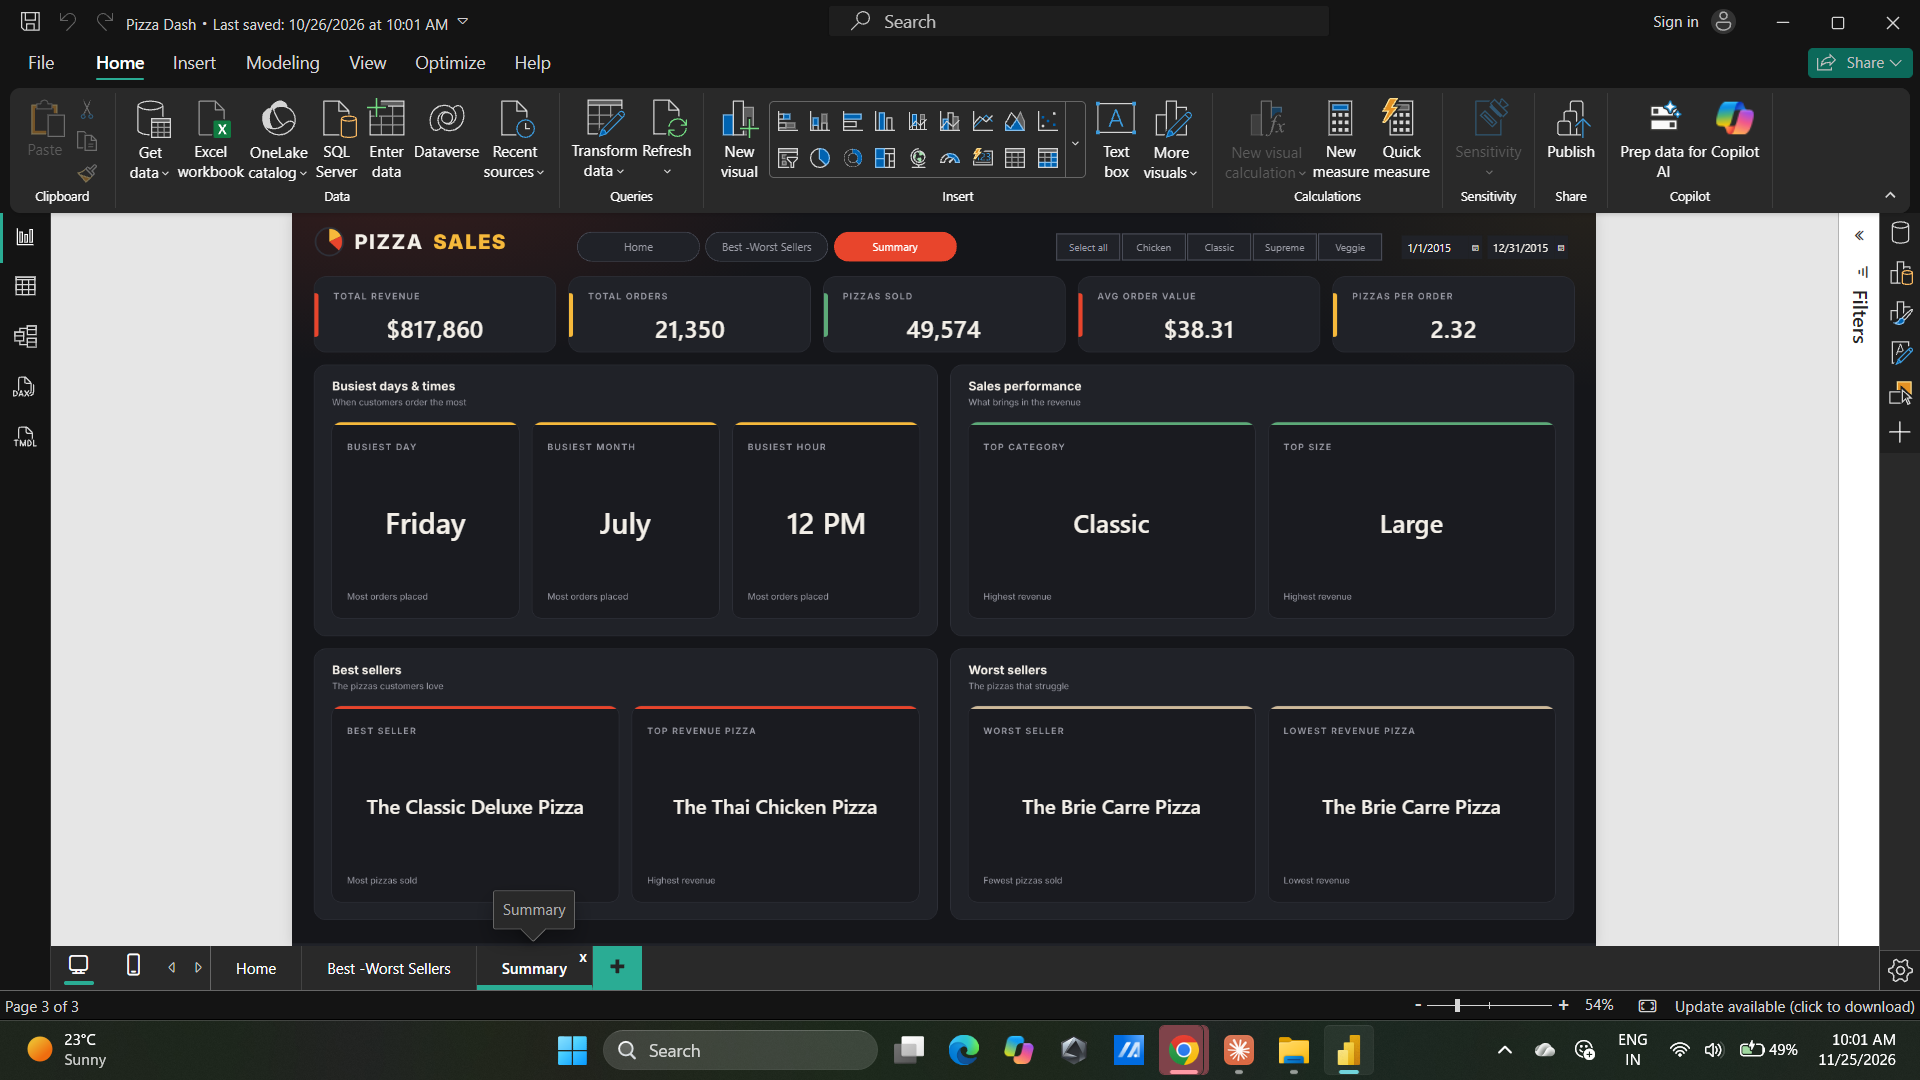

The dashboard page shown, as its layout file describes it:
{"tool":"powerbi","page":{"name":"Summary","canvas":[1920,1080],"ordinal":2},"visuals":[{"type":"card","fields":{"Values":["Measure Table.Total Revenue"]},"box":[46,136,329,68],"z":0},{"type":"card","fields":{"Values":["Measure Table.Total Orders"]},"box":[421,136,329,68],"z":1},{"type":"card","fields":{"Values":["Measure Table.Total Pizzas Sold"]},"box":[796,136,329,68],"z":2},{"type":"card","fields":{"Values":["Measure Table.Avg Order Value"]},"box":[1171,136,329,68],"z":3},{"type":"card","fields":{"Values":["Measure Table.Avg Pizzas per Order"]},"box":[1546,136,329,68],"z":4},{"type":"slicer","fields":{"Values":["Dim_Date.order_date"]},"box":[1625.2,27.6,276.1,44.2],"z":5},{"type":"slicer","fields":{"Values":["Dim_Pizza.pizza_category"]},"box":[1104.3,27.6,520,44],"z":6},{"type":"card","fields":{"Values":["Measure Table.Busiest Day"]},"box":[70,408,253,96],"z":7},{"type":"card","fields":{"Values":["Measure Table.Busiest Month"]},"box":[365,408,253,96],"z":8},{"type":"card","fields":{"Values":["Measure Table.Busiest Hour"]},"box":[660,408,253,96],"z":9},{"type":"card","fields":{"Values":["Measure Table.Top Category"]},"box":[1007,408,400,96],"z":10},{"type":"card","fields":{"Values":["Measure Table.Top Size"]},"box":[1449,408,400,96],"z":11},{"type":"card","fields":{"Values":["Measure Table.Best Seller"]},"box":[70.8,826,400,96],"z":12},{"type":"card","fields":{"Values":["Measure Table.Top Revenue Pizza"]},"box":[512,826,400,96],"z":13},{"type":"card","fields":{"Values":["Measure Table.Worst Seller"]},"box":[1007.4,826,400,96],"z":14},{"type":"card","fields":{"Values":["Measure Table.Lowest Revenue Pizza"]},"box":[1449,826,400,96],"z":15},{"type":"pageNavigator","box":[420,28,560,44.2],"z":16}]}

Visuals, with their boxes on the page's 1920x1080 design canvas (x1, y1, x2, y2). These are canvas units, not pixel positions in the 1920x1080 screenshot, which may show the page scaled, cropped or inside an application window:
card - Measure Table.Total Revenue: x1=46, y1=136, x2=375, y2=204
card - Measure Table.Total Orders: x1=421, y1=136, x2=750, y2=204
card - Measure Table.Total Pizzas Sold: x1=796, y1=136, x2=1125, y2=204
card - Measure Table.Avg Order Value: x1=1171, y1=136, x2=1500, y2=204
card - Measure Table.Avg Pizzas per Order: x1=1546, y1=136, x2=1875, y2=204
slicer - Dim_Date.order_date: x1=1625, y1=28, x2=1901, y2=72
slicer - Dim_Pizza.pizza_category: x1=1104, y1=28, x2=1624, y2=72
card - Measure Table.Busiest Day: x1=70, y1=408, x2=323, y2=504
card - Measure Table.Busiest Month: x1=365, y1=408, x2=618, y2=504
card - Measure Table.Busiest Hour: x1=660, y1=408, x2=913, y2=504
card - Measure Table.Top Category: x1=1007, y1=408, x2=1407, y2=504
card - Measure Table.Top Size: x1=1449, y1=408, x2=1849, y2=504
card - Measure Table.Best Seller: x1=71, y1=826, x2=471, y2=922
card - Measure Table.Top Revenue Pizza: x1=512, y1=826, x2=912, y2=922
card - Measure Table.Worst Seller: x1=1007, y1=826, x2=1407, y2=922
card - Measure Table.Lowest Revenue Pizza: x1=1449, y1=826, x2=1849, y2=922
pageNavigator: x1=420, y1=28, x2=980, y2=72
